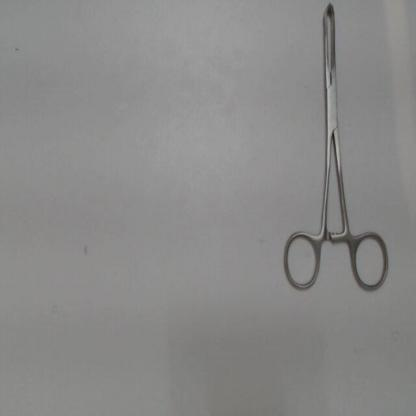Allis Tissue Forceps: (277, 3, 395, 297)
